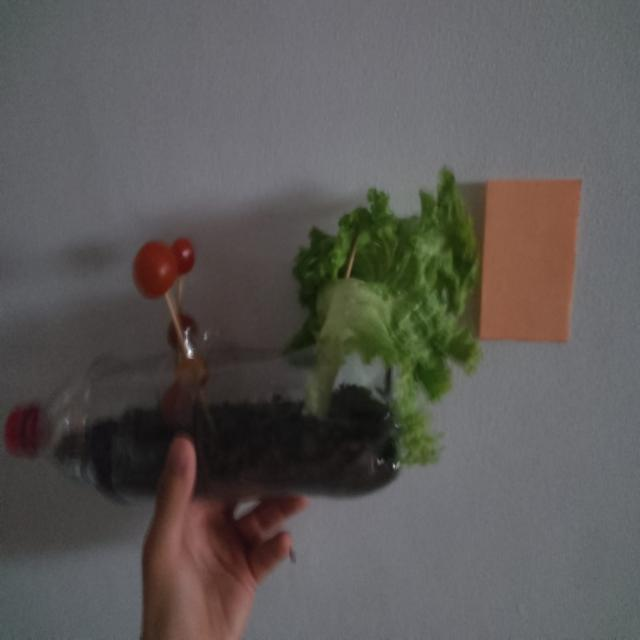card: (479, 181, 580, 341)
fully_grown: (133, 238, 194, 297)
